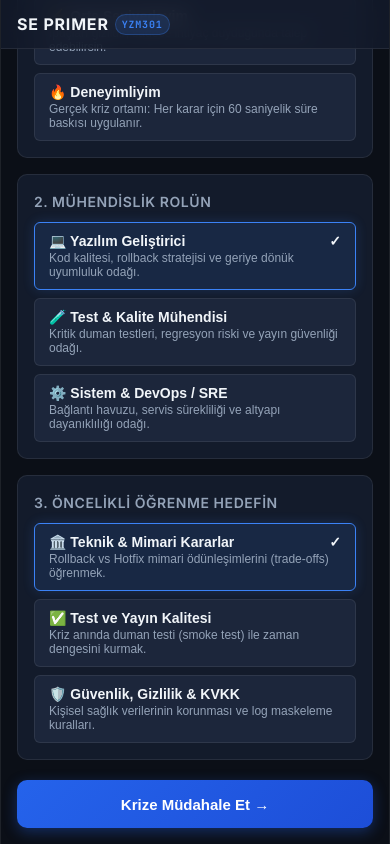
04 - Sokratik AI Tutor Etkileşimi ve Güvenlik Testleri › Öğrenci düşünce girdiğinde Sokratik soru, ipucu ve geri bildirim üretir
This screenshot has width=390, height=844.
(page scrolled)
Click the button with test id "start-crisis-btn" at coordinates (195, 804), box [17,780,373,828]
(page scrolled)
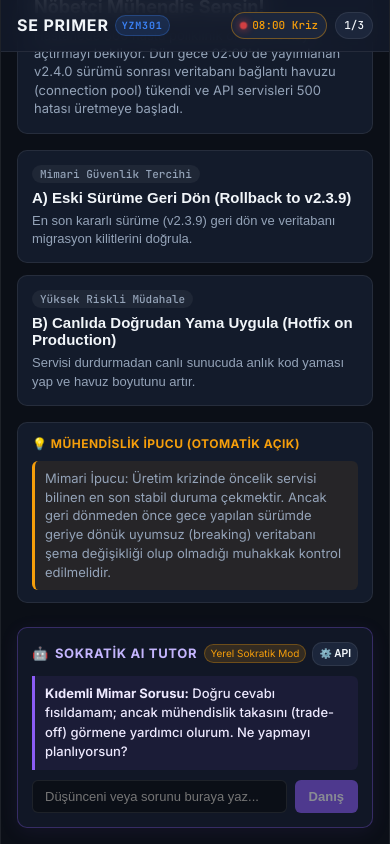
Type "Canlıda hemen yama yapsak daha hızlı olmaz mı?" into the field with test id "tutor-input" at coordinates (160, 797), box [32,780,287,813]
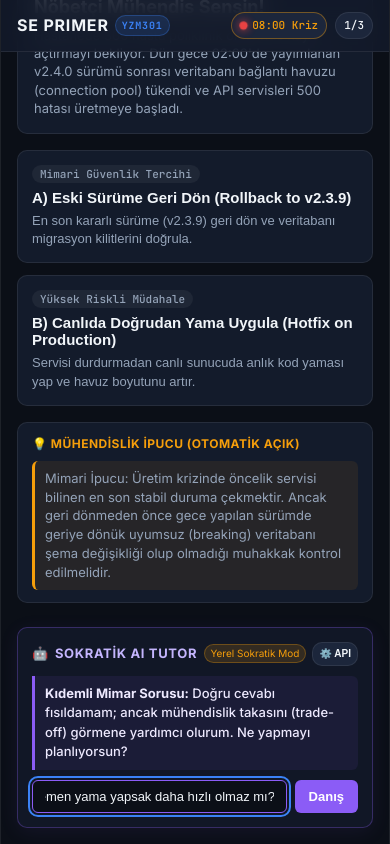
Click the button with test id "tutor-submit-btn" at coordinates (327, 797), box [295,780,358,813]
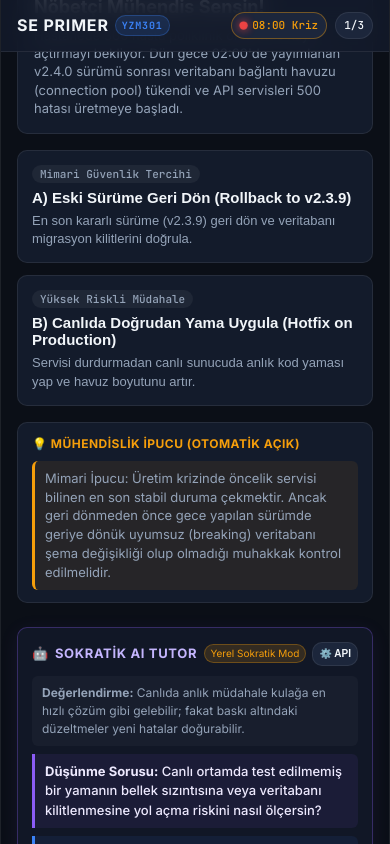
Expected: the element with test id "tutor-response" is shown, [32,676,358,843]
Expected: the element with test id "tutor-feedback" is shown, [32,676,358,746]
Expected: the element with test id "tutor-question" is shown, [32,754,358,829]
